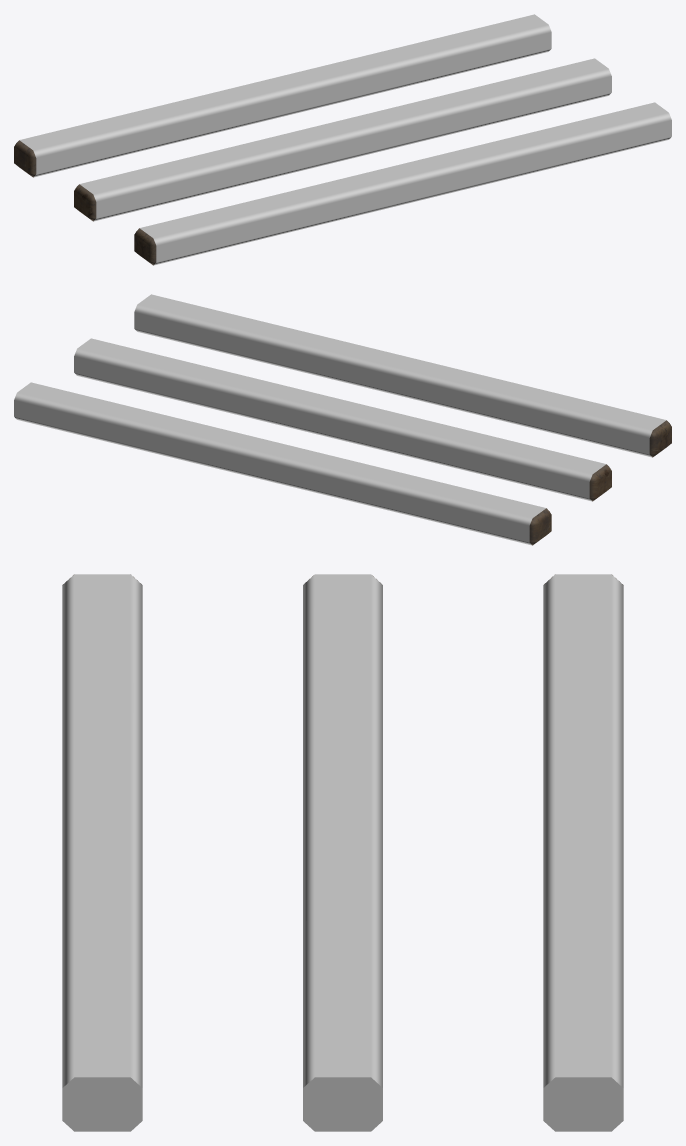
The model's file is SM_Beam_end_3_15x20x300_01.fbx.
3 views of the same model, one above another, from view 1: azimuth 30°, elevation 25°; view 2: azimuth 150°, elevation 25°; view 3: azimuth 270°, elevation 25° (orthographic). The views are drawn at different scales.
Parts seen in each view (by area): view 1: SM_Beam_end_3_15x20x300_01_LOD0; view 2: SM_Beam_end_3_15x20x300_01_LOD0; view 3: SM_Beam_end_3_15x20x300_01_LOD0.
Boxes of the visible parts, x1,y1,x2,y2 form: SM_Beam_end_3_15x20x300_01_LOD0: (14, 14, 671, 265); SM_Beam_end_3_15x20x300_01_LOD0: (14, 294, 671, 545); SM_Beam_end_3_15x20x300_01_LOD0: (62, 574, 623, 1131).
Bounding box in the file's own units: 300 × 140 × 15.
